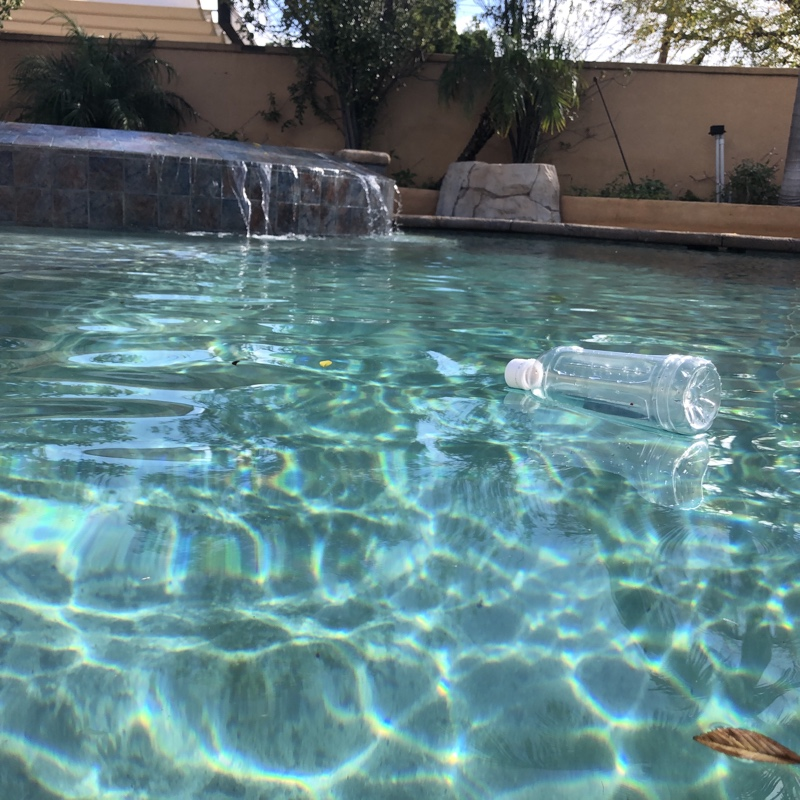Plastic Bottle: (498, 338, 720, 445)
